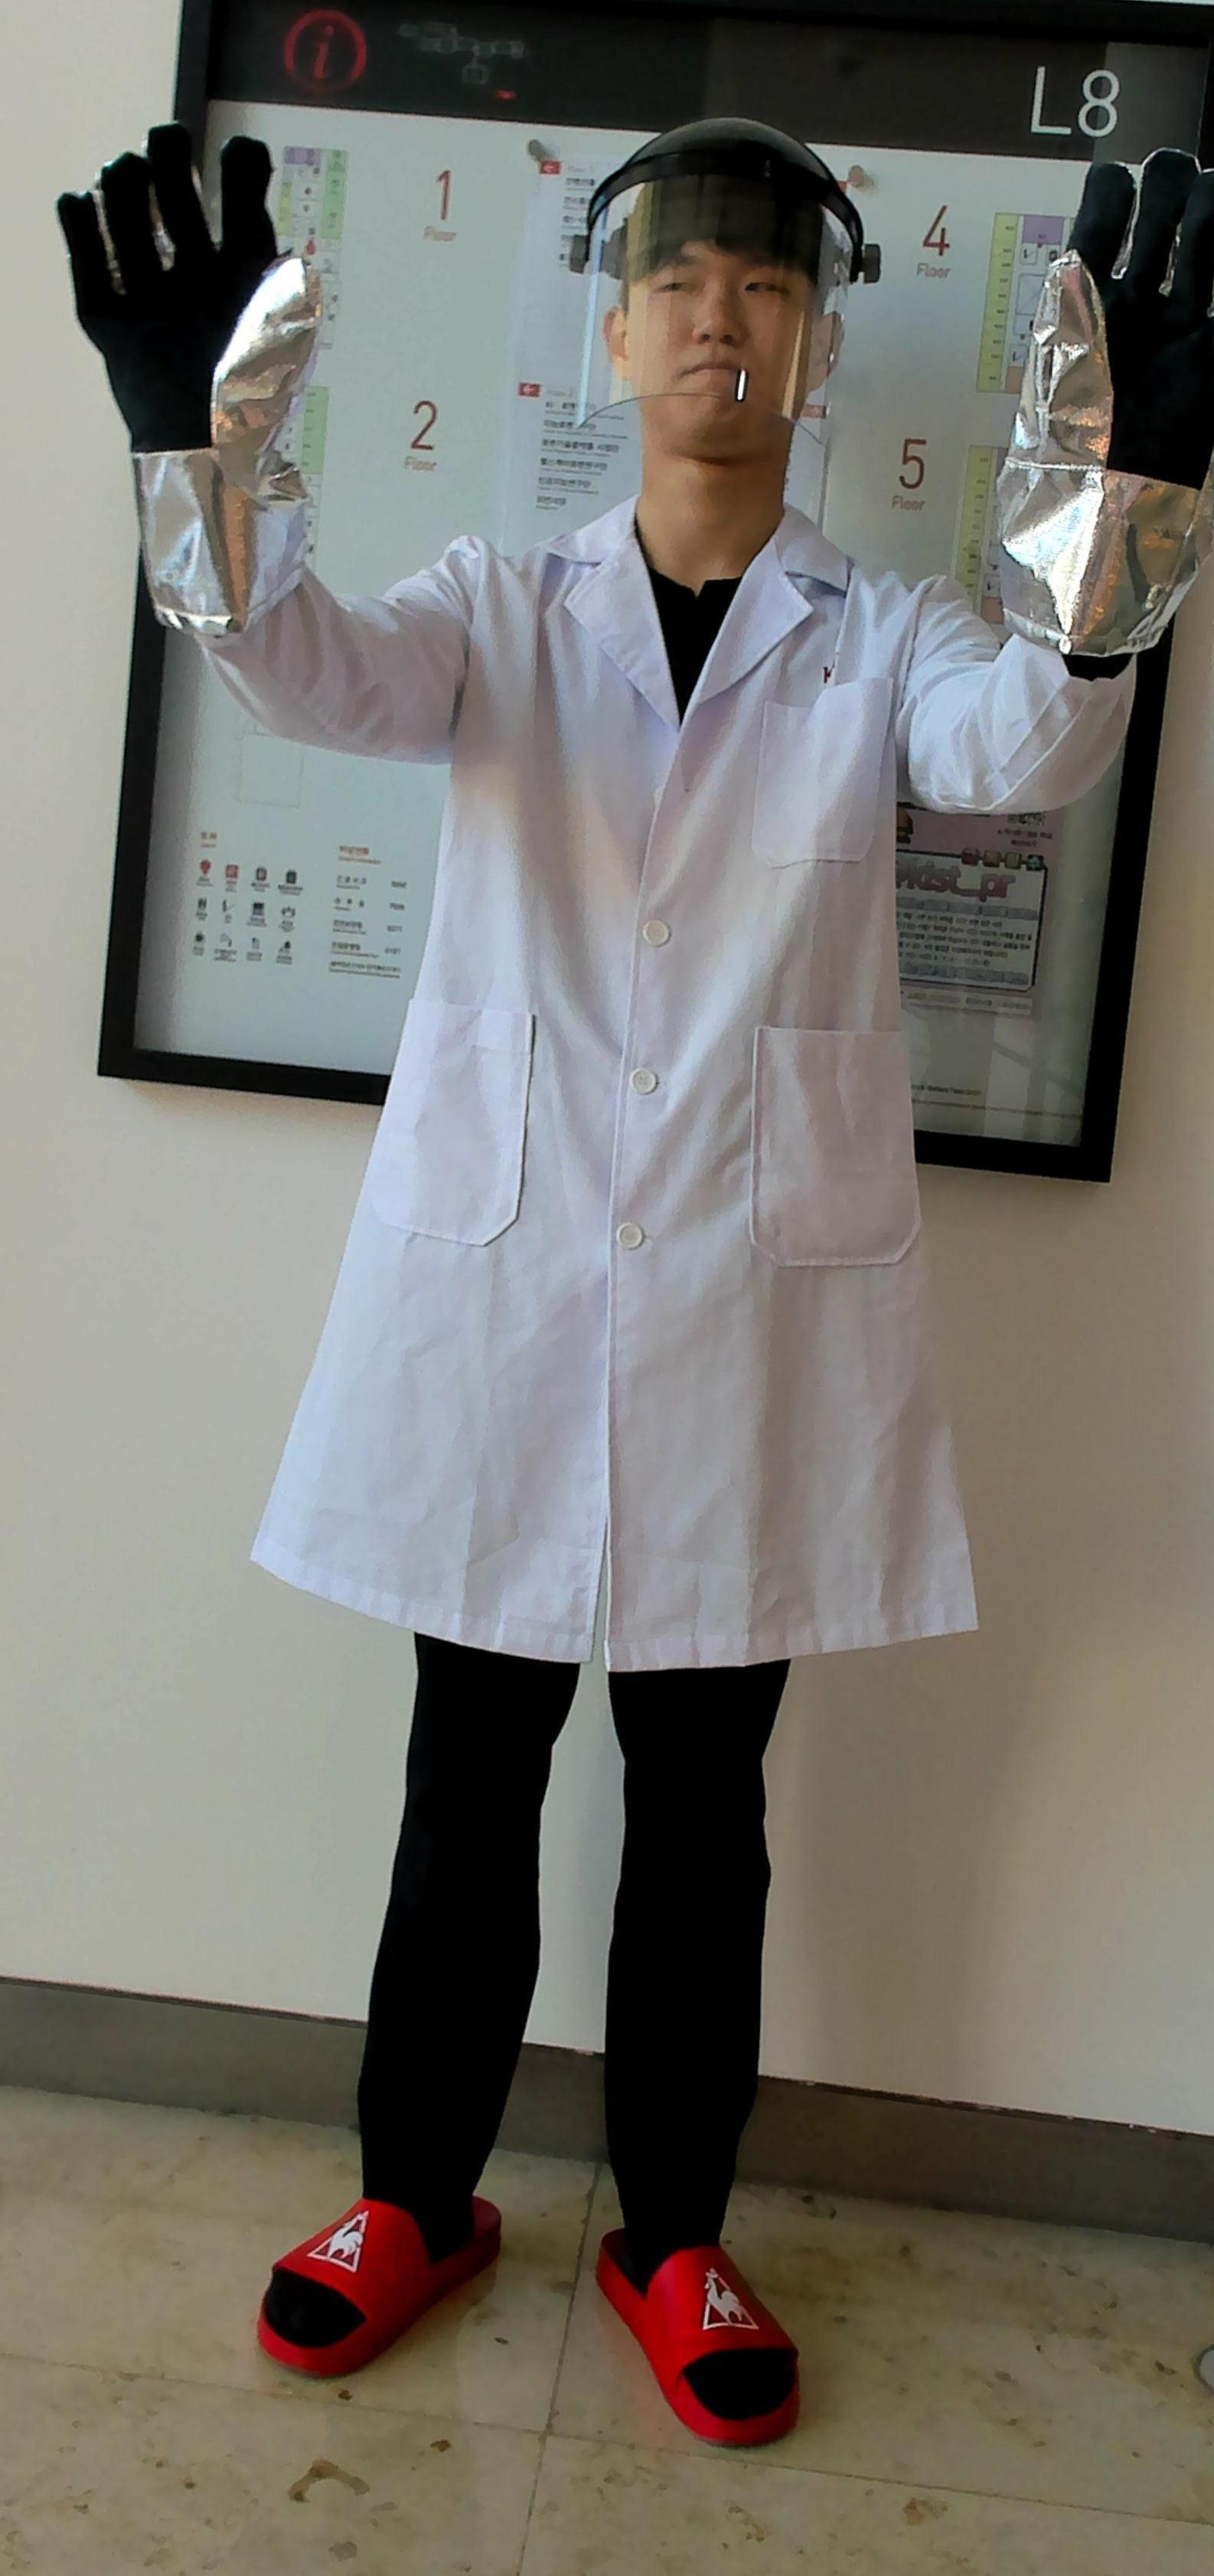lab_coat: (345, 614, 935, 1636)
